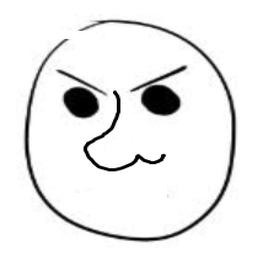eye: (140, 83, 182, 117), (61, 86, 98, 120)
frowning_eyebrow: (129, 62, 190, 94), (56, 65, 110, 98)
large_nose: (82, 86, 168, 171)
